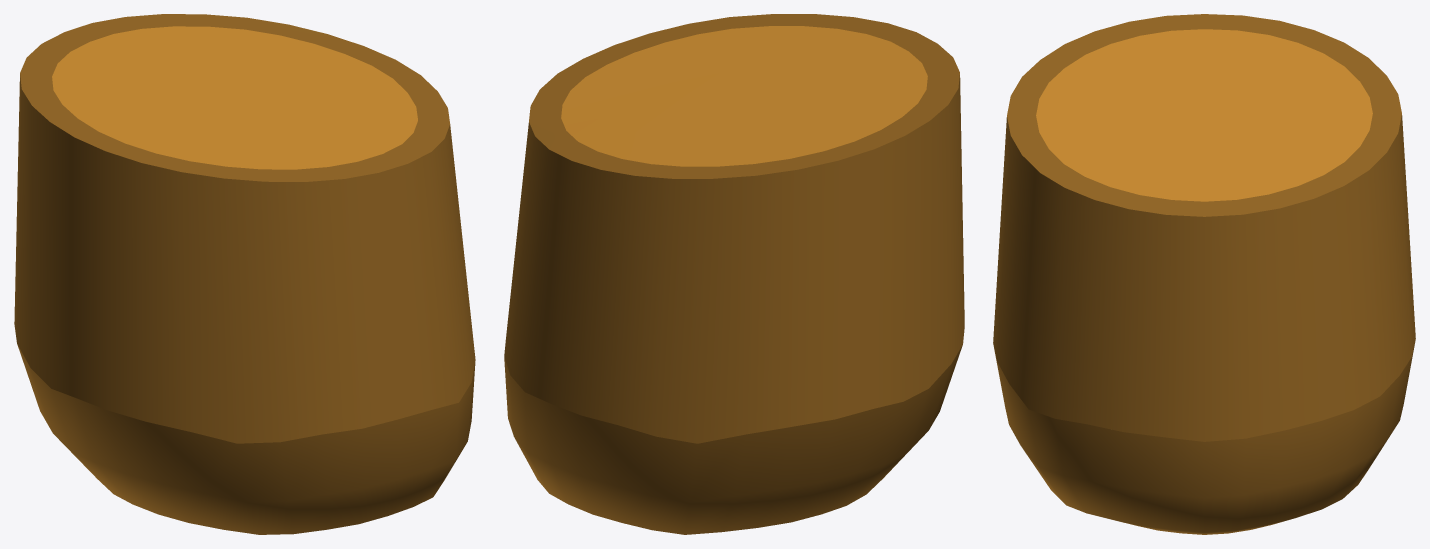
Rendered from tree2 20%.fbx.
3 views of the same model, side by side, from view 1: azimuth 30°, elevation 25°; view 2: azimuth 150°, elevation 25°; view 3: azimuth 270°, elevation 25° (orthographic). The views are drawn at different scales.
Parts seen in each view (by area): view 1: Cylinder.024; view 2: Cylinder.024; view 3: Cylinder.024.
Part boxes in pixels (x1,y1,x2,y2): Cylinder.024: (14,14,475,534); Cylinder.024: (504,14,964,534); Cylinder.024: (993,14,1415,534).
Size of the model in its own units: 40.25 by 40.1 by 41.31.
